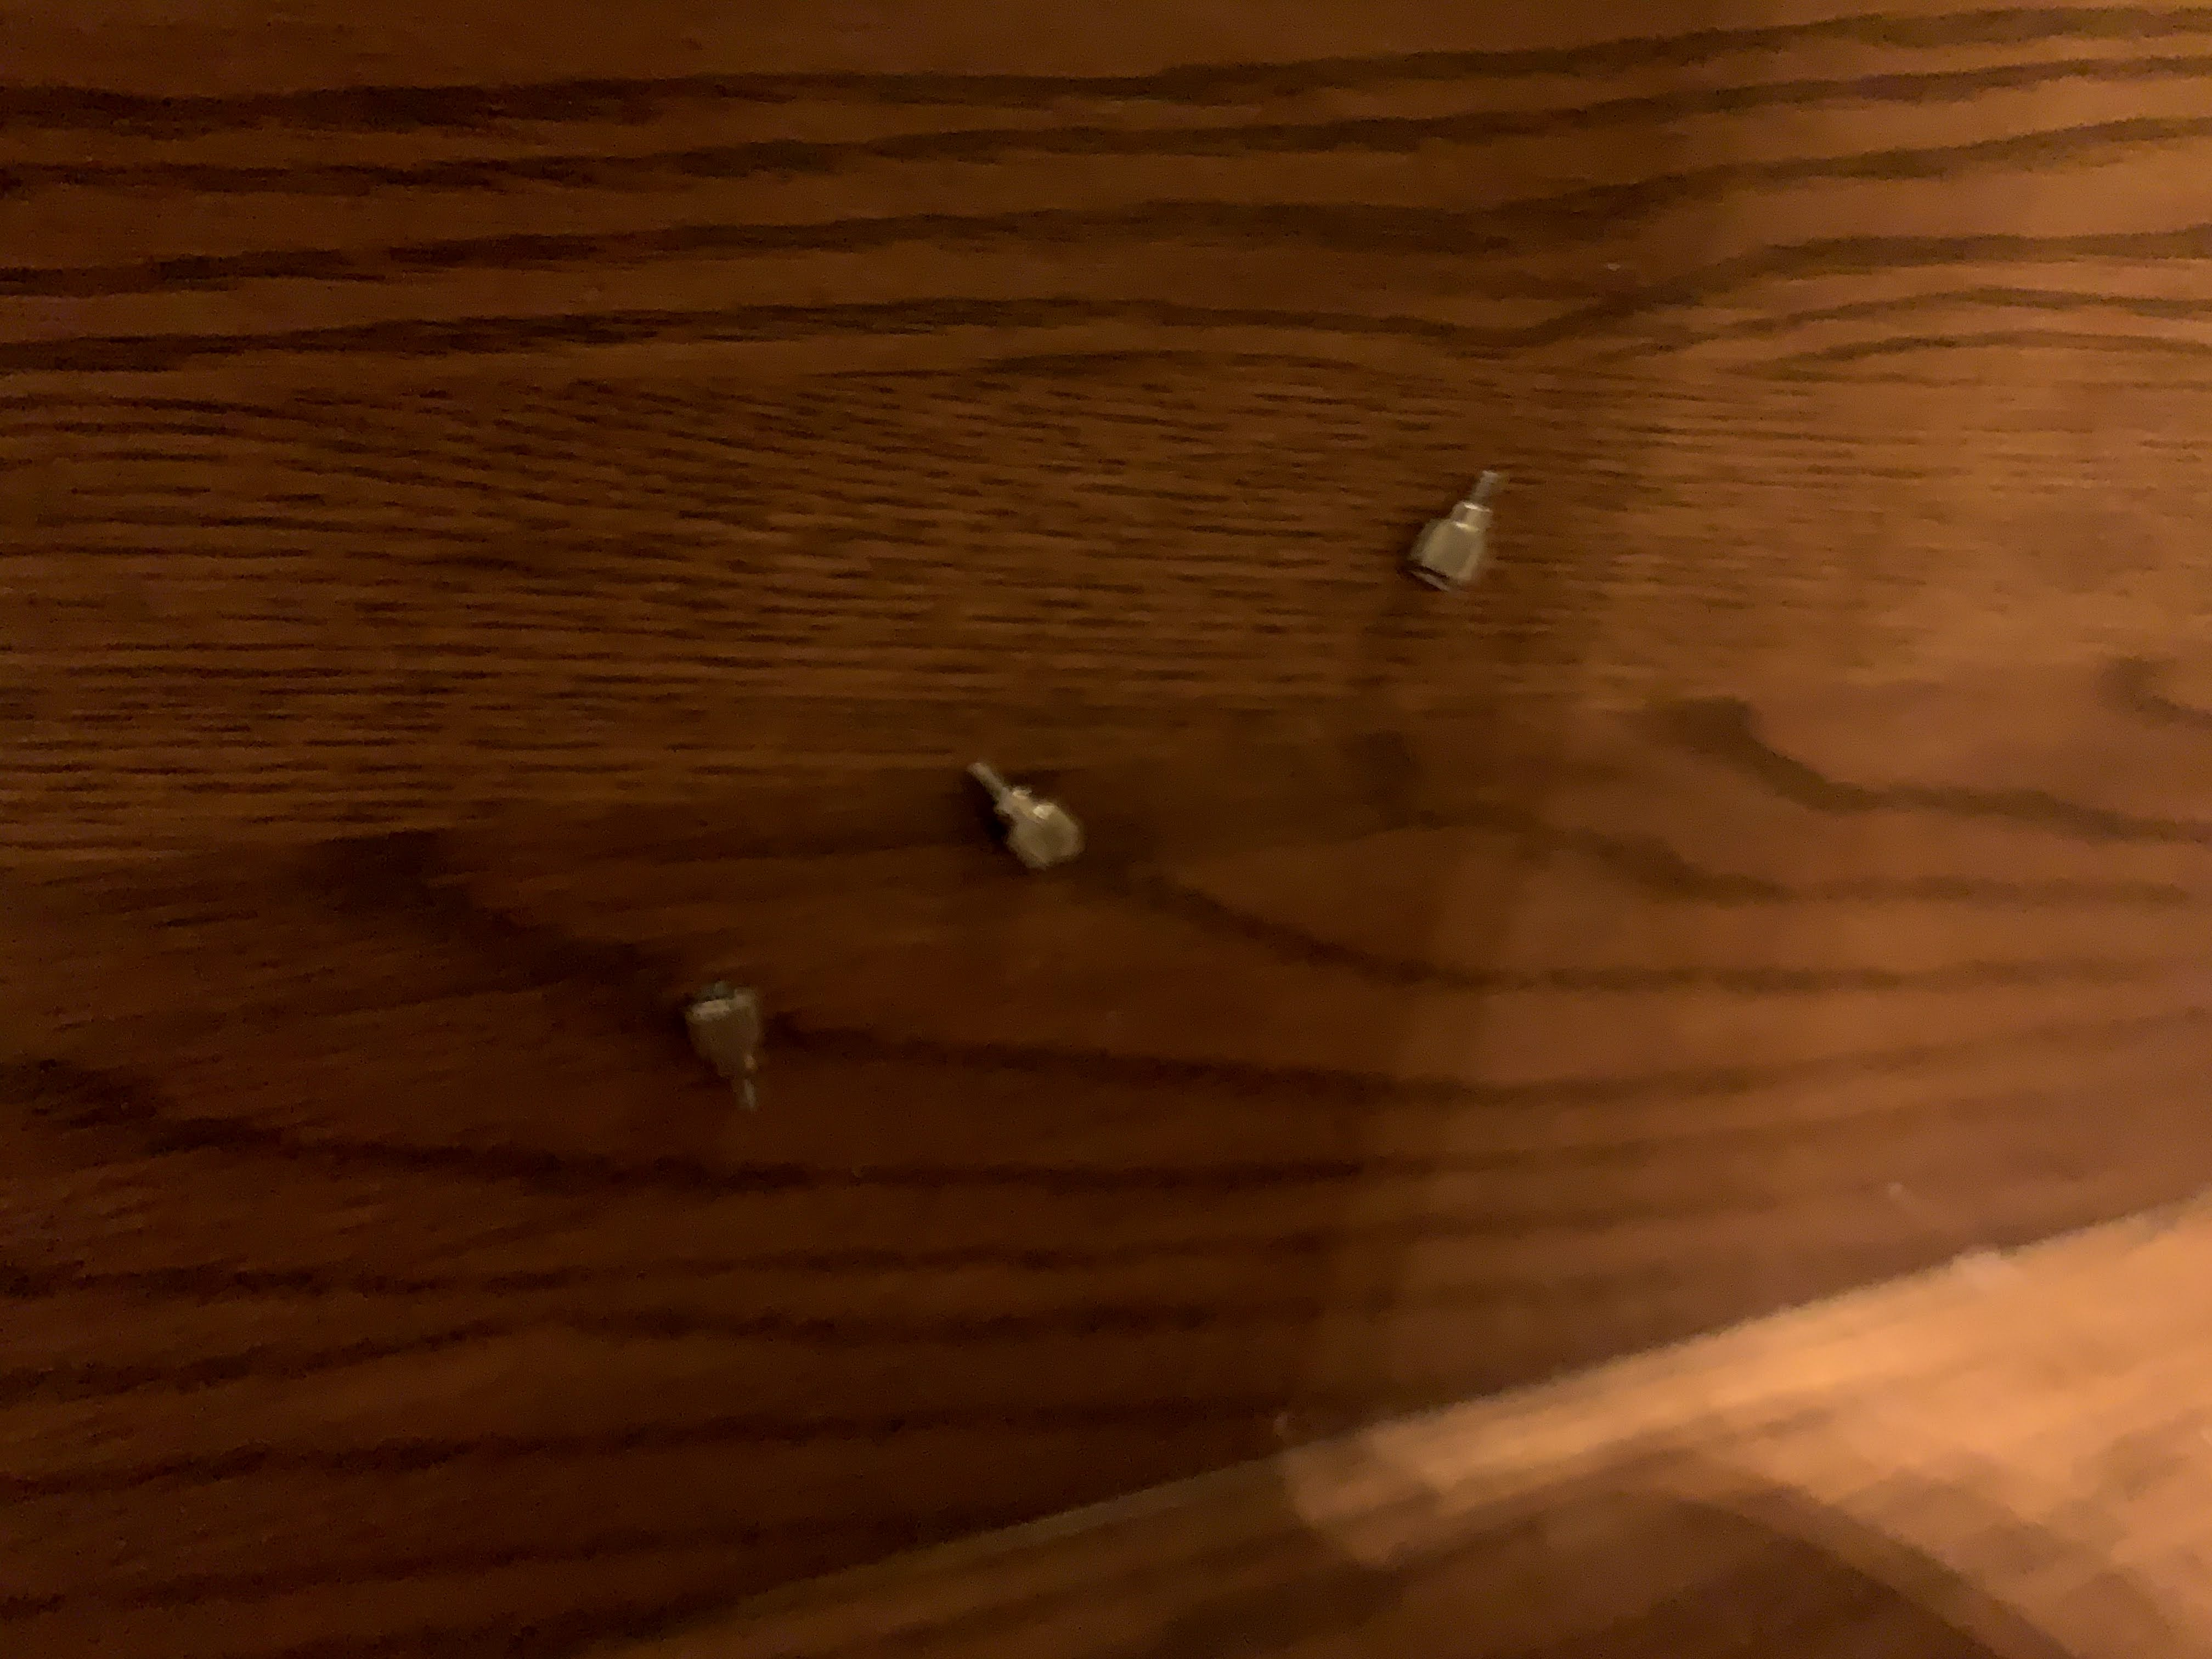Space-debris-small: (935, 744, 1096, 887), (664, 972, 782, 1124), (1402, 450, 1510, 601)
